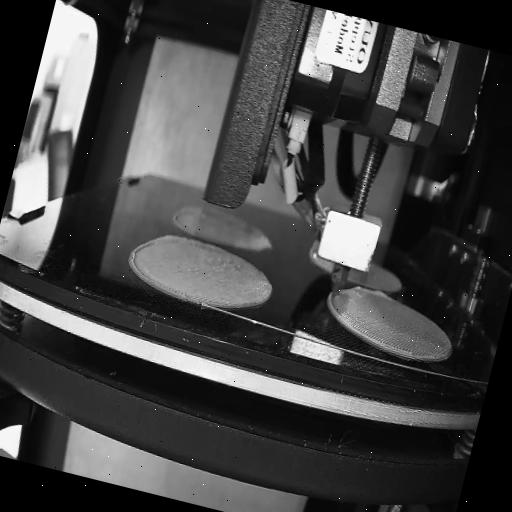over_extrusion: (122, 228, 160, 284), (350, 281, 392, 305)
